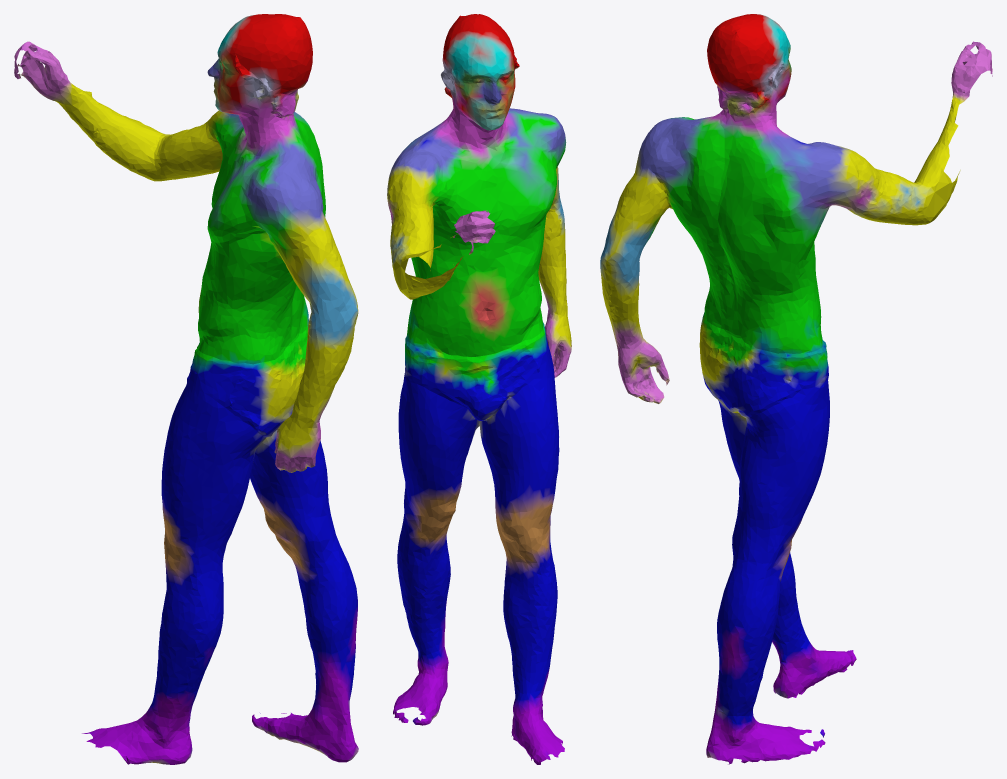
The model's file is 197_output_fine_grained.glb.
The picture shows the model from 3 angles, left to right: view 1: azimuth 30°, elevation 25°; view 2: azimuth 150°, elevation 25°; view 3: azimuth 270°, elevation 25°; orthographic projection. The views are drawn at different scales.
Parts seen in each view (by area): view 1: 197_output_fine_grained.obj; view 2: 197_output_fine_grained.obj; view 3: 197_output_fine_grained.obj.
Boxes of the visible parts, <box> form: 197_output_fine_grained.obj: <box>14,14,358,764</box>; 197_output_fine_grained.obj: <box>387,14,571,764</box>; 197_output_fine_grained.obj: <box>600,14,992,764</box>.
Size of the model in its own units: 0.5603 by 1.81 by 0.9024.
